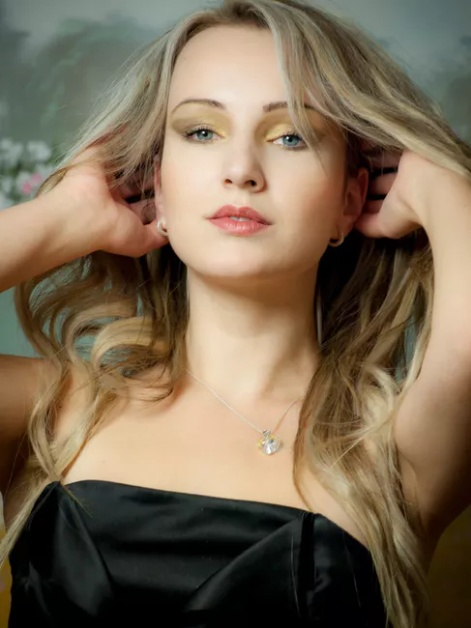face: (162, 27, 341, 278)
